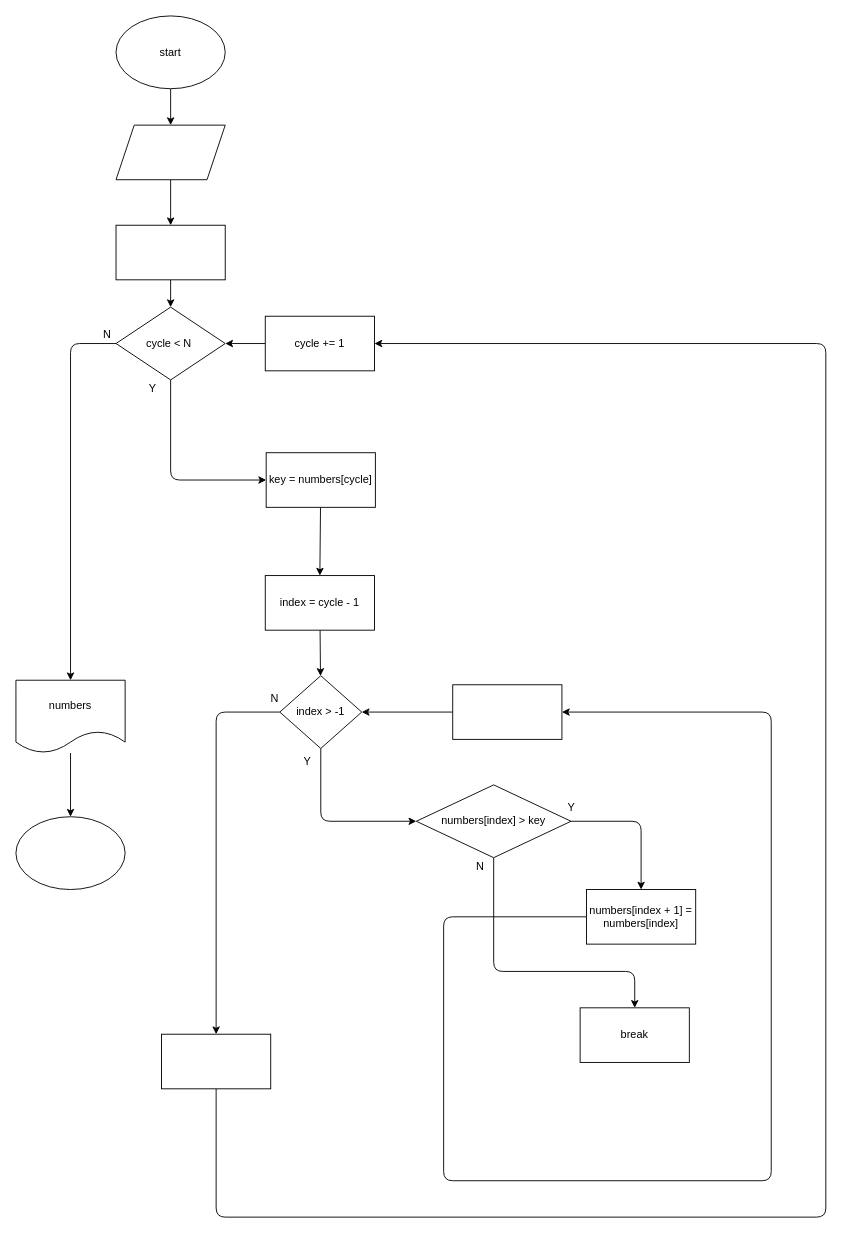
The diagram is 849 pixels wide and 1240 high, and some of its shapes have lost their labels. The centre of each missing label's shape, as x and y in pixels:
"cycle = 1" belongs at pixel 170 252.
"end" belongs at pixel 70 853.
"index -= 1" belongs at pixel 507 711.
"N numbers" belongs at pixel 170 152.
"numbers[index + 1] = key" belongs at pixel 216 1061.
